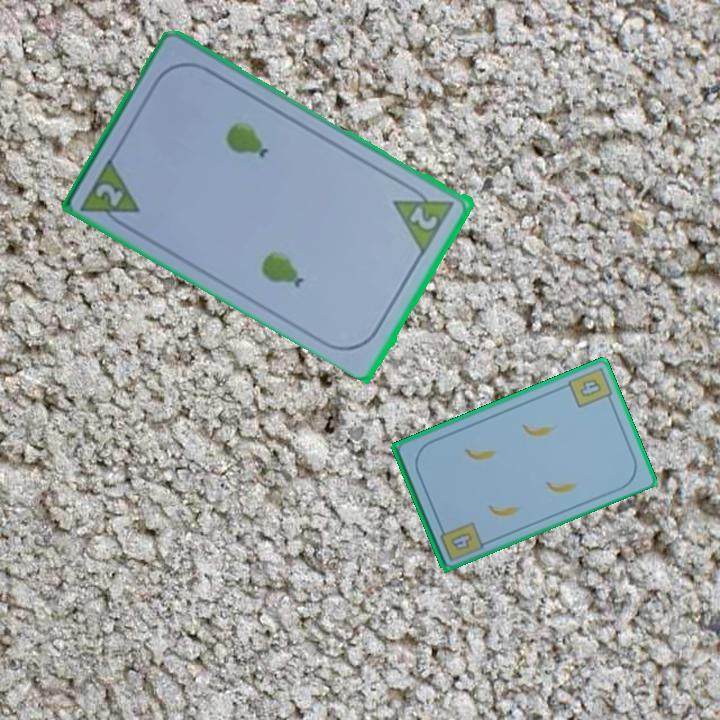2p: (78, 152, 144, 233), (406, 202, 442, 233)
4b: (564, 364, 616, 411), (447, 528, 475, 553)
